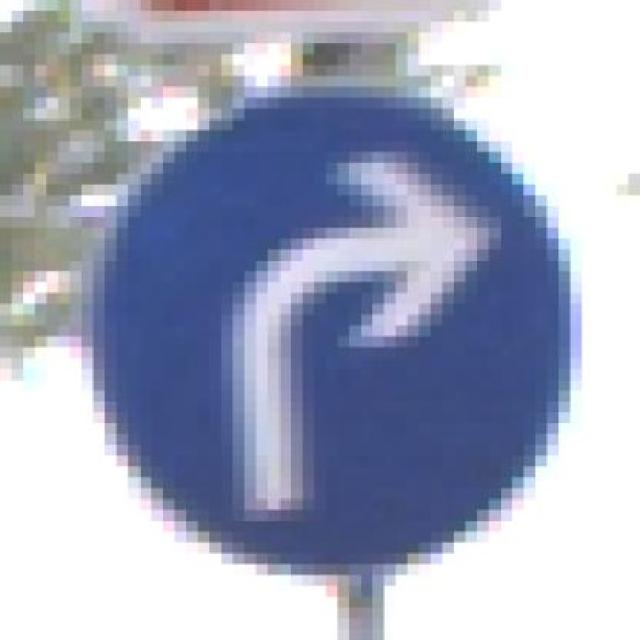Turn right ahead: (81, 86, 582, 597)
